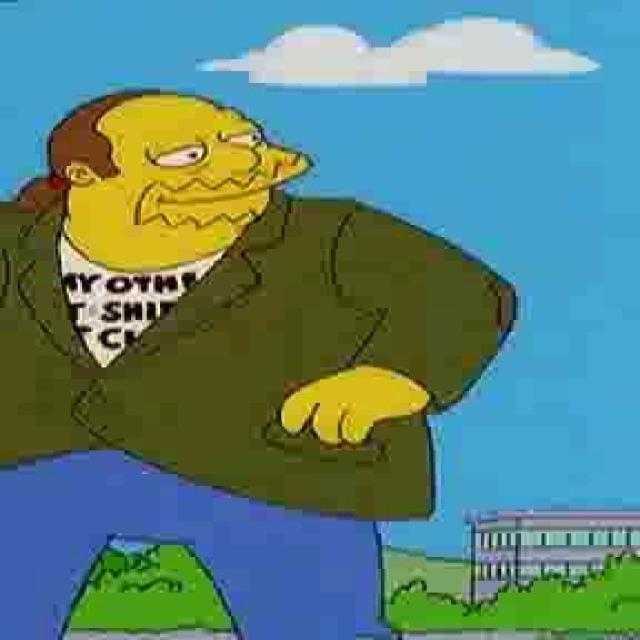Comic Book Guy: (31, 87, 320, 274)
